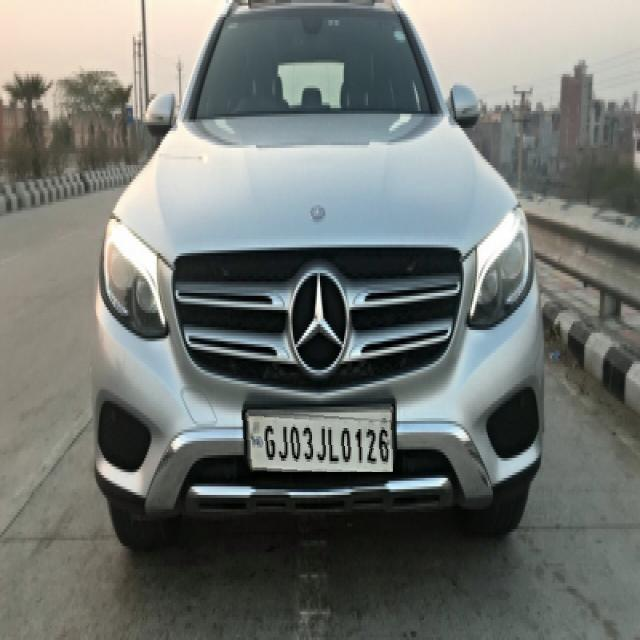licence: (242, 410, 394, 472)
